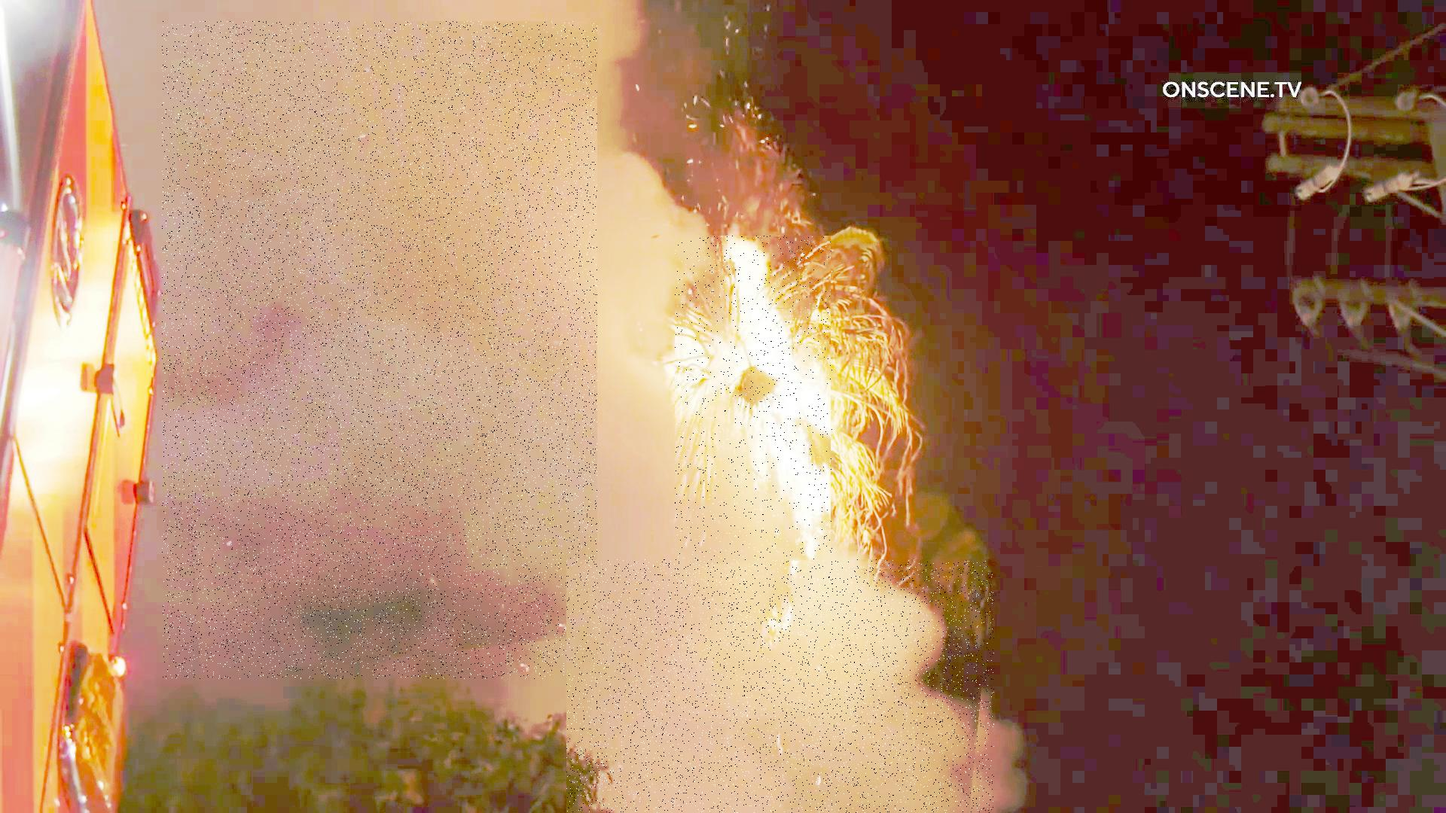fire: (675, 236, 833, 566)
smoke: (162, 21, 597, 679), (567, 559, 995, 813)
